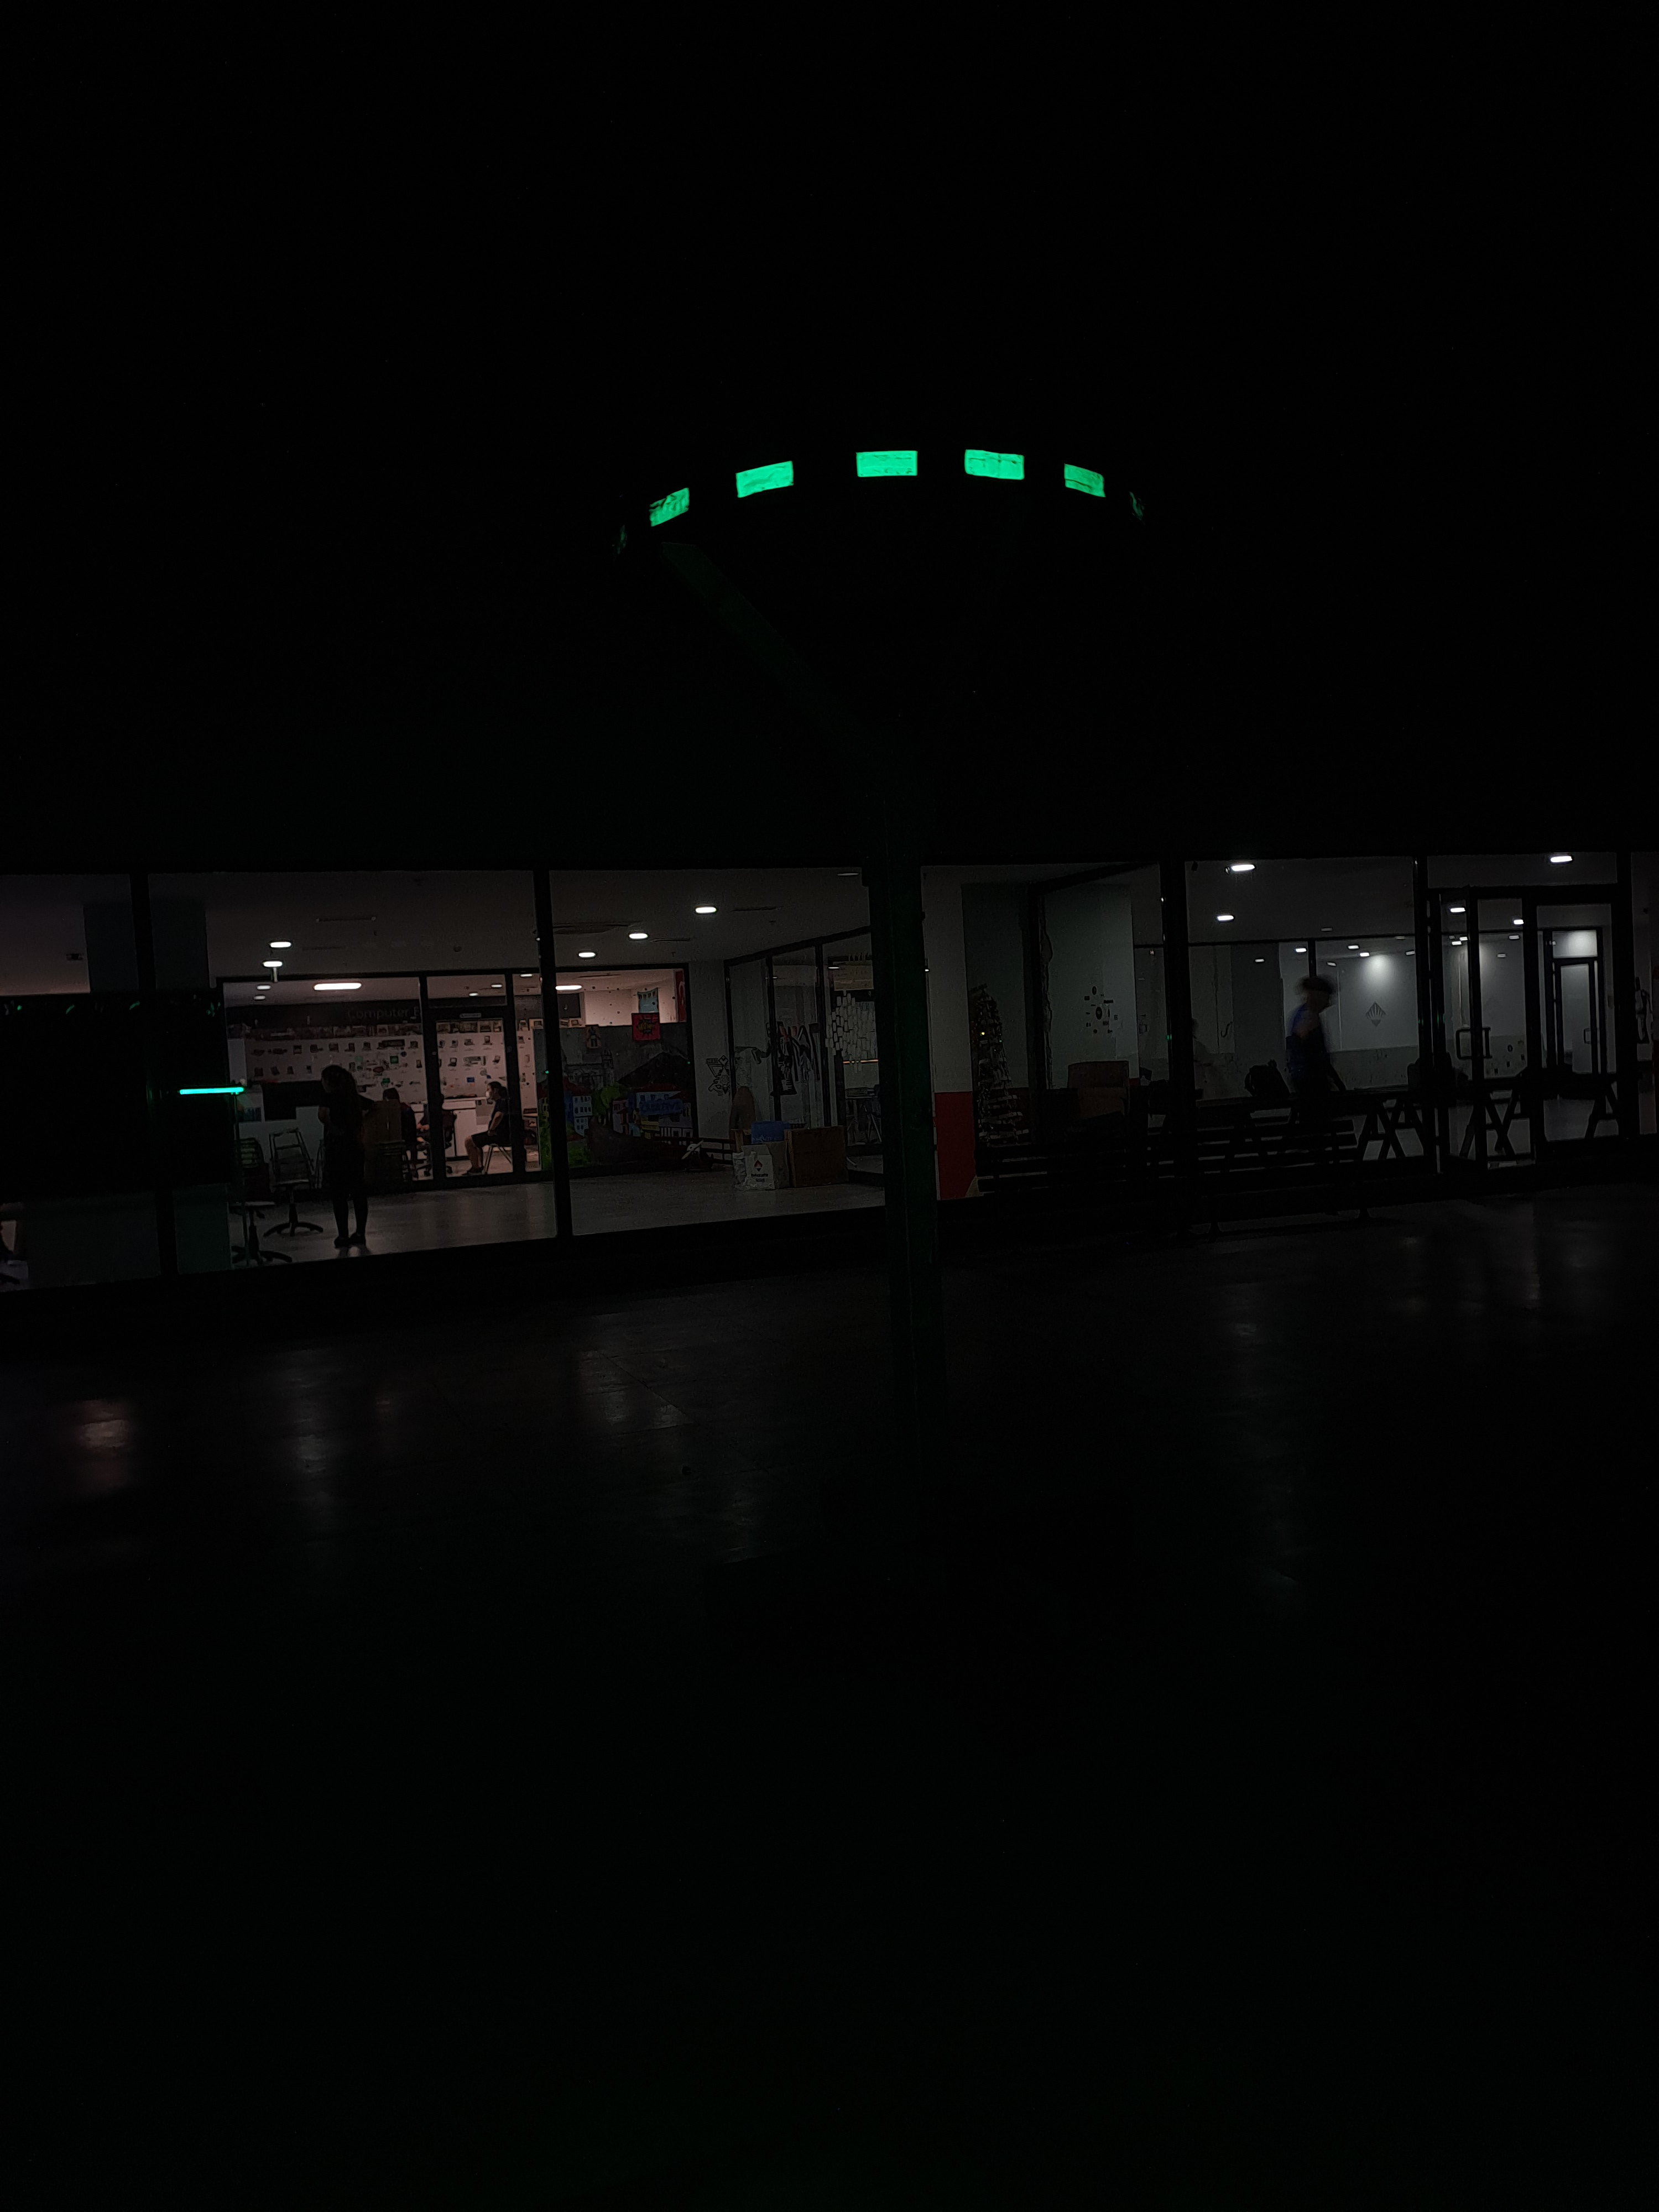hoop: (641, 439, 1117, 538)
